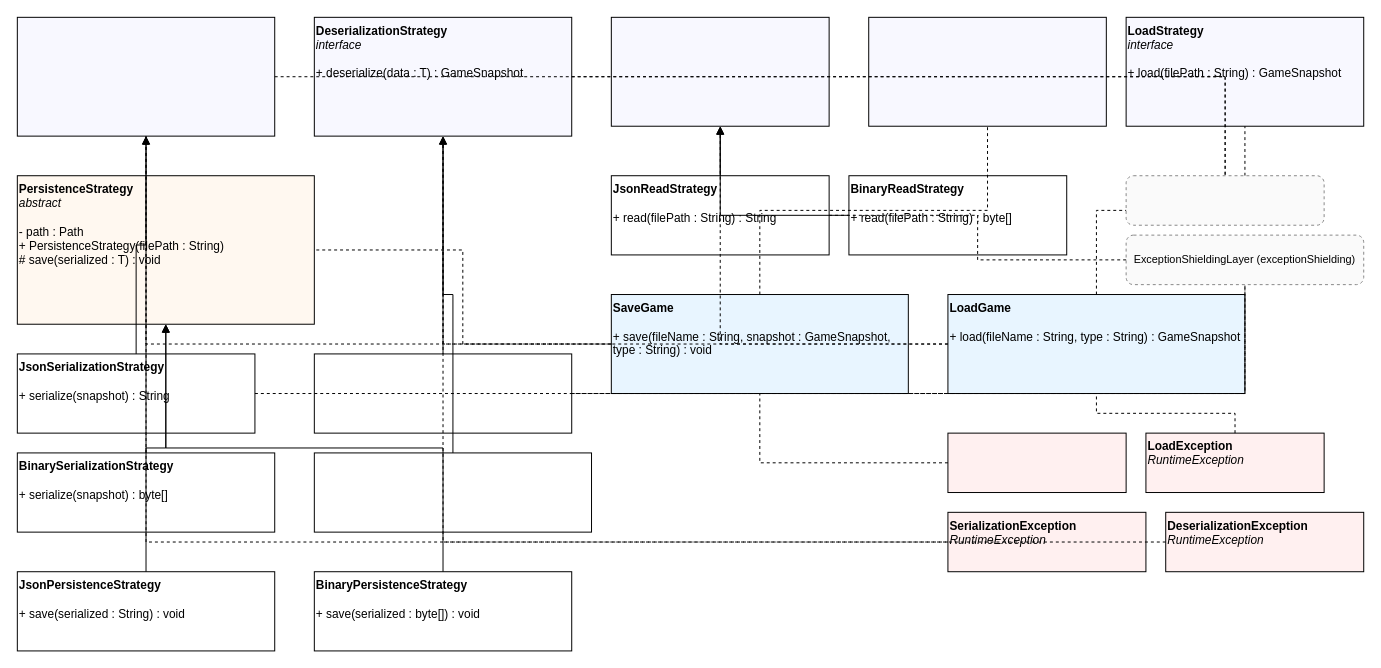
Image size: 1381x668. Some labels were removed from this diagram. Here are the shapes that lost their labels. From the top down, the centre of each, then its label:
At [145,76]: "SerializationStrategy interface + serialize(snapshot : GameSnapshot) : T".
At [719,71]: "ReadStrategy interface + read(filePath : String) : T".
At [987,71]: "SaveStrategy interface + save(snapshot : GameSnapshot, filePath : String) : void".
At [1224,200]: "GameSnapshot (memento.GameSnapshot)".
At [442,393]: "JsonDeserializationStrategy + deserialize(data : String) : GameSnapshot".
At [1036,462]: "SaveException RuntimeException".
At [452,492]: "BinaryDeserializationStrategy + deserialize(data : byte[]) : GameSnapshot".
